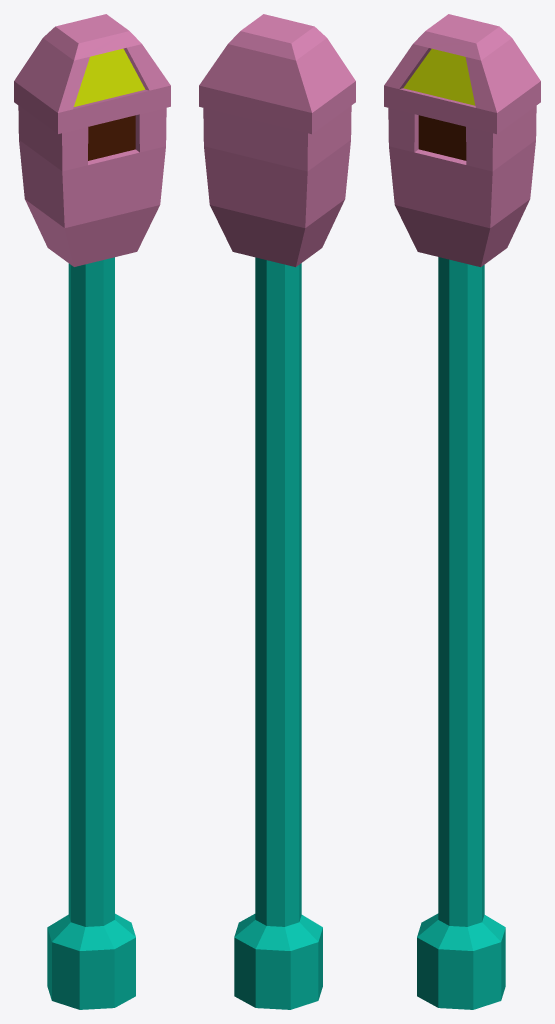
File: ParkingMeter_SH.fbx
3 renders of one model, left to right at view 1: azimuth 30°, elevation 25°; view 2: azimuth 150°, elevation 25°; view 3: azimuth 330°, elevation 25°, orthographic.
Parts seen in each view (by area): view 1: ParkingMeter_SH; view 2: ParkingMeter_SH; view 3: ParkingMeter_SH.
Part boxes in pixels (x1=…): ParkingMeter_SH: x1=14, y1=14, x2=170, y2=1009; ParkingMeter_SH: x1=199, y1=14, x2=355, y2=1009; ParkingMeter_SH: x1=384, y1=14, x2=540, y2=1009.
Bounding box in the file's own units: 35.92 × 292 × 25.31.
